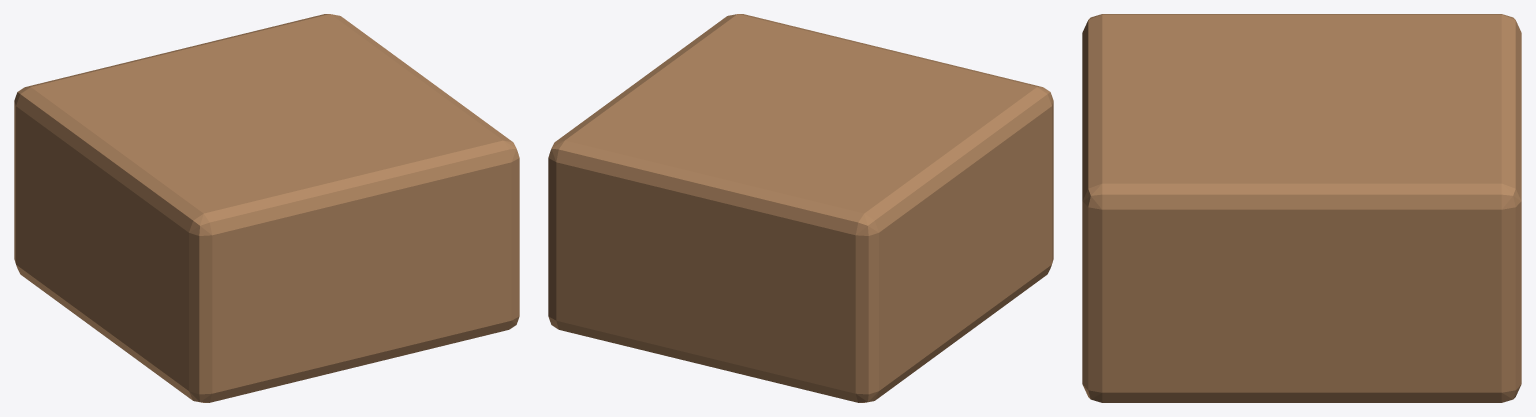
File: BoardBase.fbx
The picture shows the model from 3 angles, left to right: view 1: azimuth 30°, elevation 25°; view 2: azimuth 150°, elevation 25°; view 3: azimuth 270°, elevation 25°; orthographic projection. The views are drawn at different scales.
Visible parts, largest first — view 1: BoardBase; view 2: BoardBase; view 3: BoardBase.
Boxes of the visible parts, x1,y1,x2,y2 form: BoardBase: (14, 14, 519, 402); BoardBase: (548, 14, 1053, 402); BoardBase: (1082, 14, 1521, 402).
Bounding box in the file's own units: 100 × 55 × 100.
